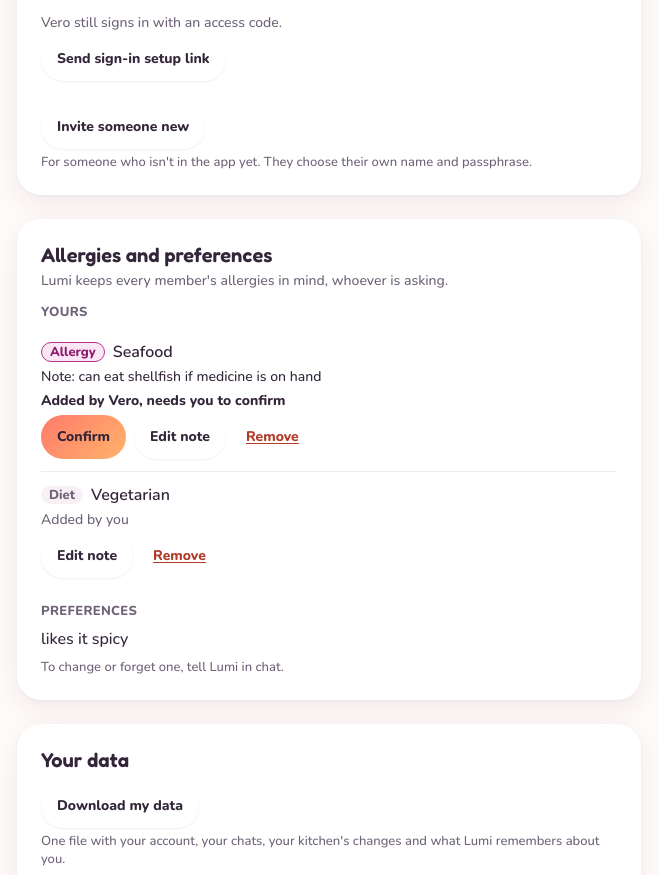
Scenario: Confirm / Edit note / Remove (AI7: owner only) › a refused Remove says so in place and changes nothing
(page scrolled)
Click the button with aria-label "Remove your seafood allergy" at coordinates (272, 437), box [234, 415, 311, 459]
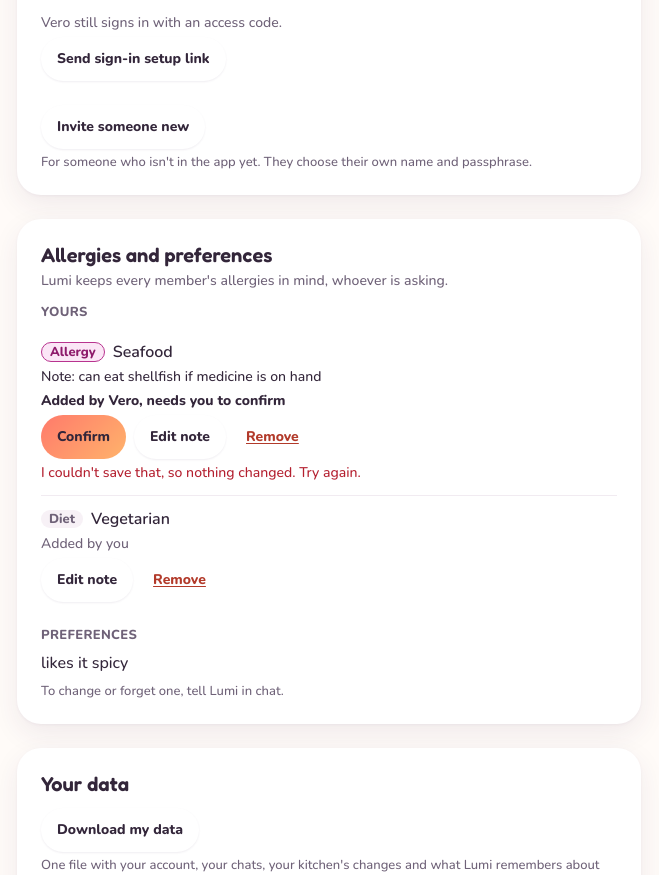
Expected: the text "Seafood" is shown, [113, 341, 173, 363]
Result: the message shows "I couldn't save that, so nothing changed." at [41, 463, 361, 482]
